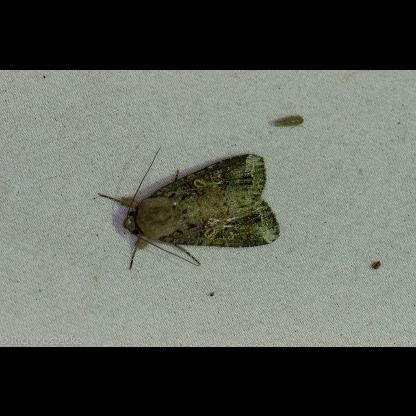Fall Armyworm Moth: (96, 144, 282, 272)
